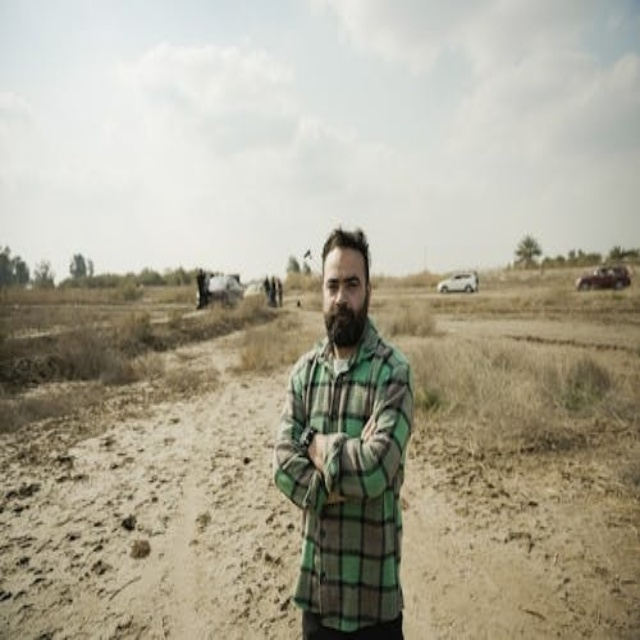Sin_gafas: (323, 278, 363, 296)
